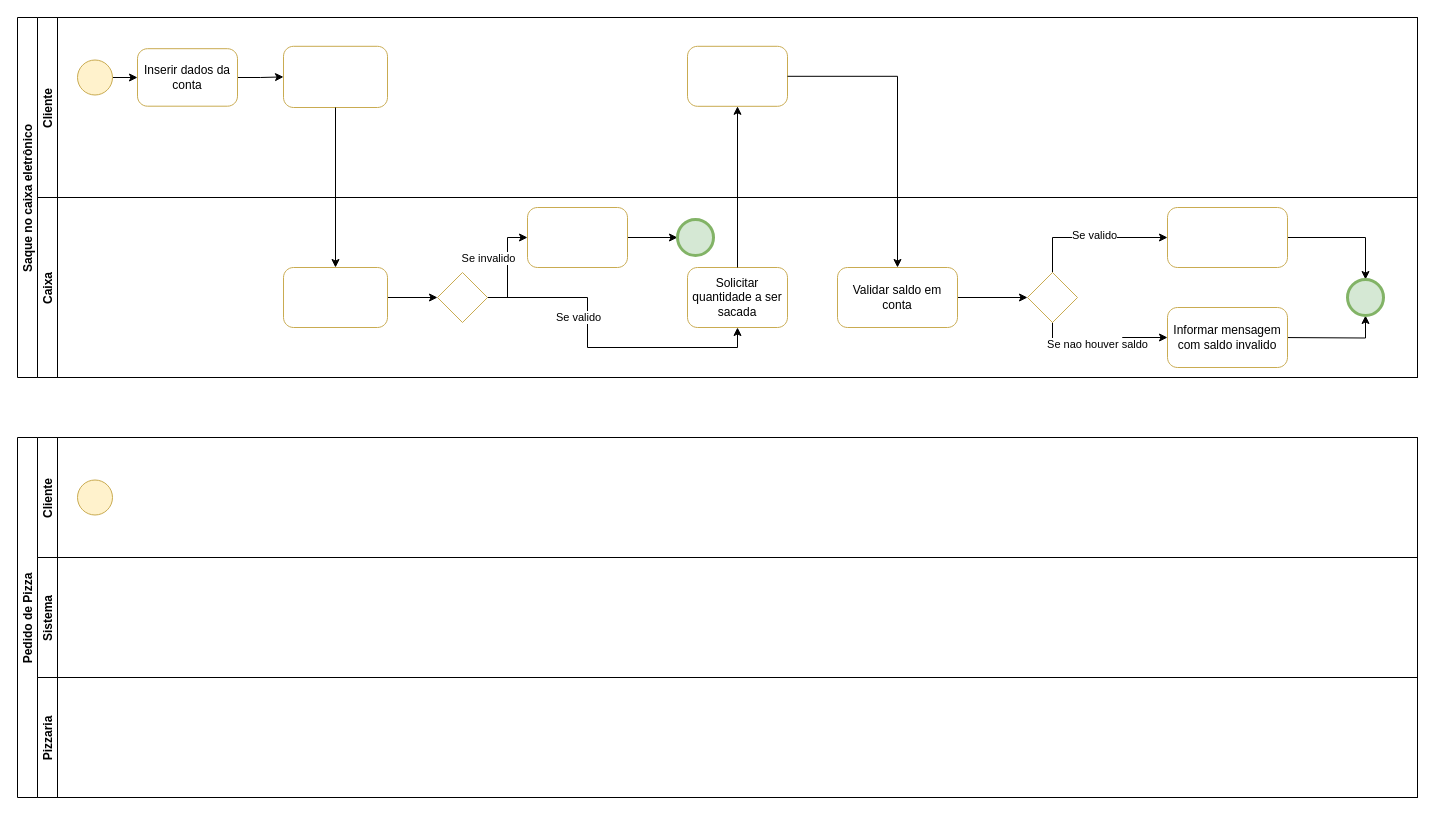
Some shapes in this 1435 by 815 pixel diagram are drawn without their labels. The shapes that lost their labels are listed below. From the top down, each one's centre as x and y in pixels, then its label:
At [335,76]: "Posicionar a palma da mão no leitor".
At [737,75]: "Inserir o valor a ser sacado".
At [577,237]: "Exibir mensagem de erro".
At [1227,237]: "Entregar quantidade solicitada".
At [335,297]: "Validar a biometria".
